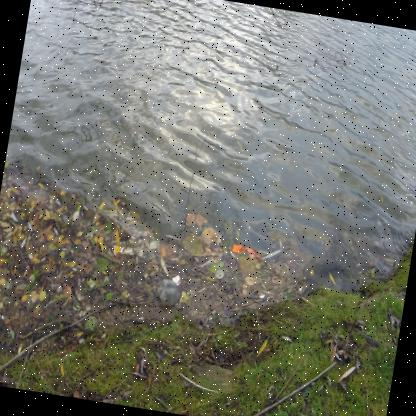Clear plastic bottle: (157, 278, 181, 305)
Other plastic: (232, 243, 263, 260)
